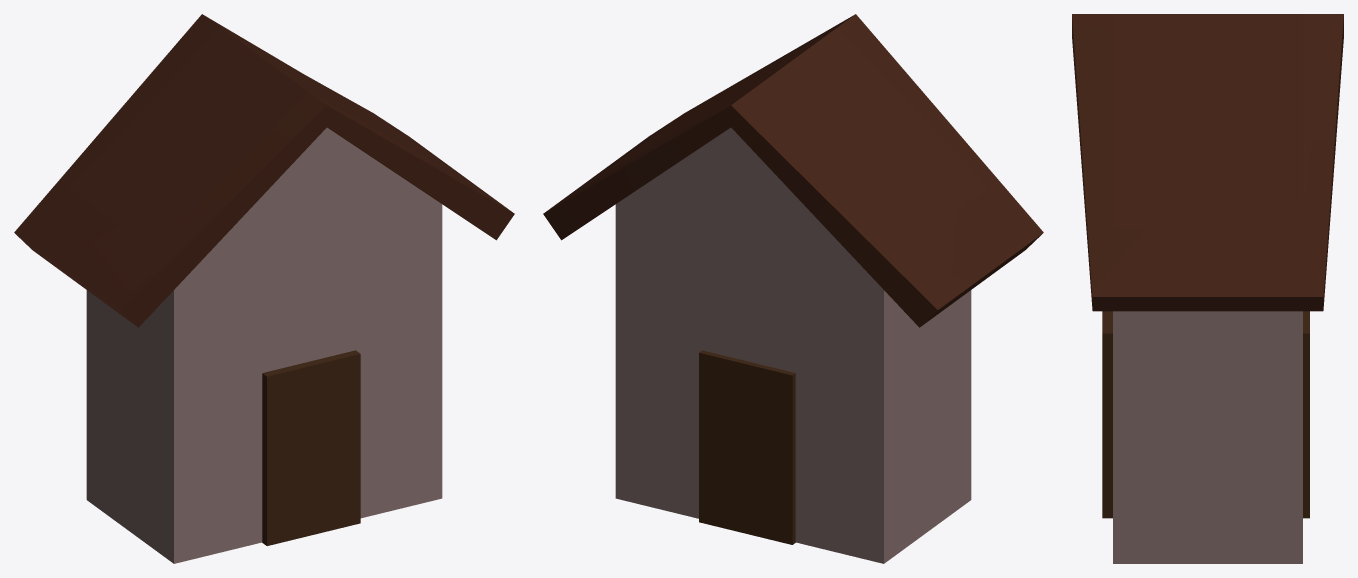
File: House_Doorway.fbx
3 views of the same model, side by side, from view 1: azimuth 30°, elevation 25°; view 2: azimuth 150°, elevation 25°; view 3: azimuth 270°, elevation 25° (orthographic). The views are drawn at different scales.
Visible parts, largest first — view 1: House_Doorway; view 2: House_Doorway; view 3: House_Doorway.
Part boxes in pixels (left/top/right/bottom): House_Doorway: left=14, top=14, right=514, bottom=563; House_Doorway: left=543, top=14, right=1043, bottom=563; House_Doorway: left=1072, top=14, right=1343, bottom=563.
Size of the model in its own units: 19.32 by 20.57 by 10.58.
